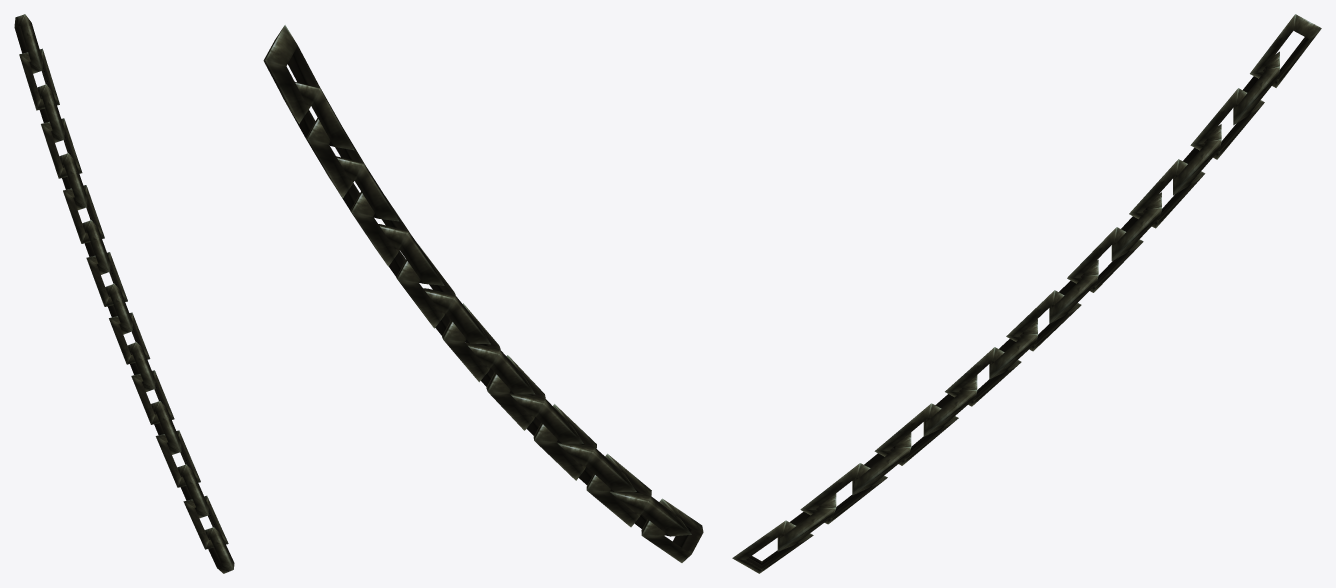
File: huoshan_Wujian_06.FBX
3 renders of one model, left to right at view 1: azimuth 30°, elevation 25°; view 2: azimuth 150°, elevation 25°; view 3: azimuth 270°, elevation 25°, orthographic. The views are drawn at different scales.
Parts seen in each view (by area): view 1: huoshan_Wujian_06; view 2: huoshan_Wujian_06; view 3: huoshan_Wujian_06.
Boxes of the visible parts, box(x1,y1,x2,y2) form: huoshan_Wujian_06: box(14, 14, 234, 573); huoshan_Wujian_06: box(263, 25, 703, 562); huoshan_Wujian_06: box(732, 14, 1321, 573).
Bounding box in the file's own units: 168 × 2809 × 2681.
